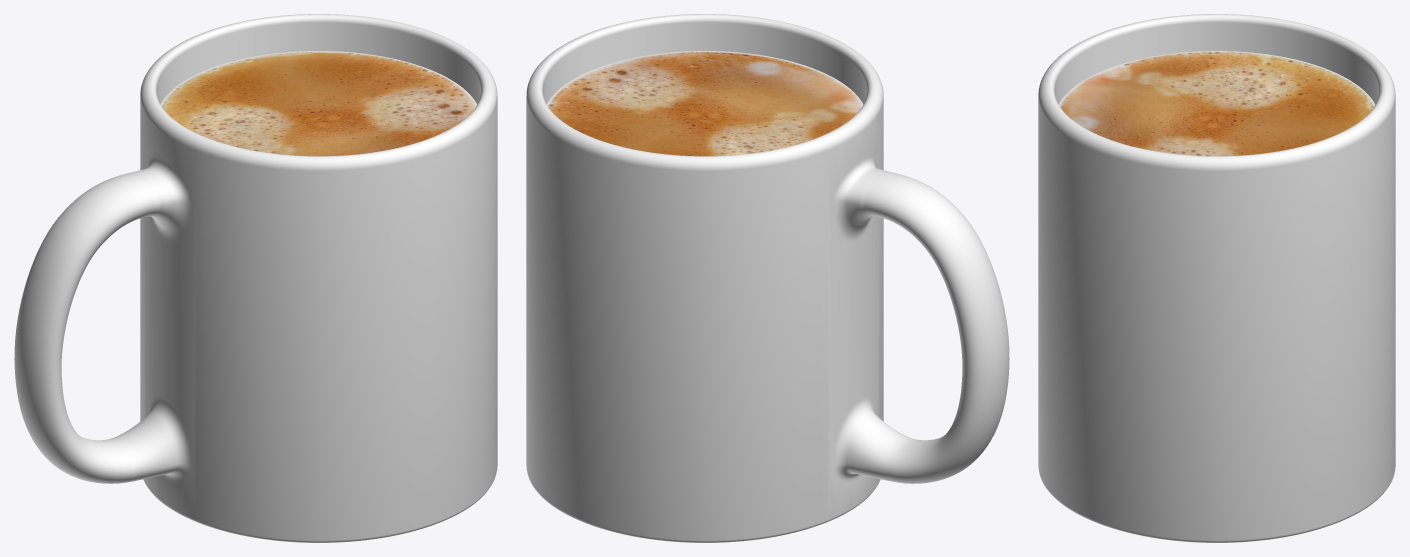
File: mug.glb
The picture shows the model from 3 angles, left to right: view 1: azimuth 30°, elevation 25°; view 2: azimuth 150°, elevation 25°; view 3: azimuth 270°, elevation 25°; orthographic projection.
Visible parts, largest first — view 1: Coffee-Mug; view 2: Coffee-Mug; view 3: Coffee-Mug.
Boxes of the visible parts, x1,y1,x2,y2 form: Coffee-Mug: (14, 14, 497, 542); Coffee-Mug: (526, 14, 1009, 542); Coffee-Mug: (1038, 14, 1395, 542).
Size of the model in its own units: 11.99 by 9.7 by 8.2.
Materials: 2 (2 with a texture image).
